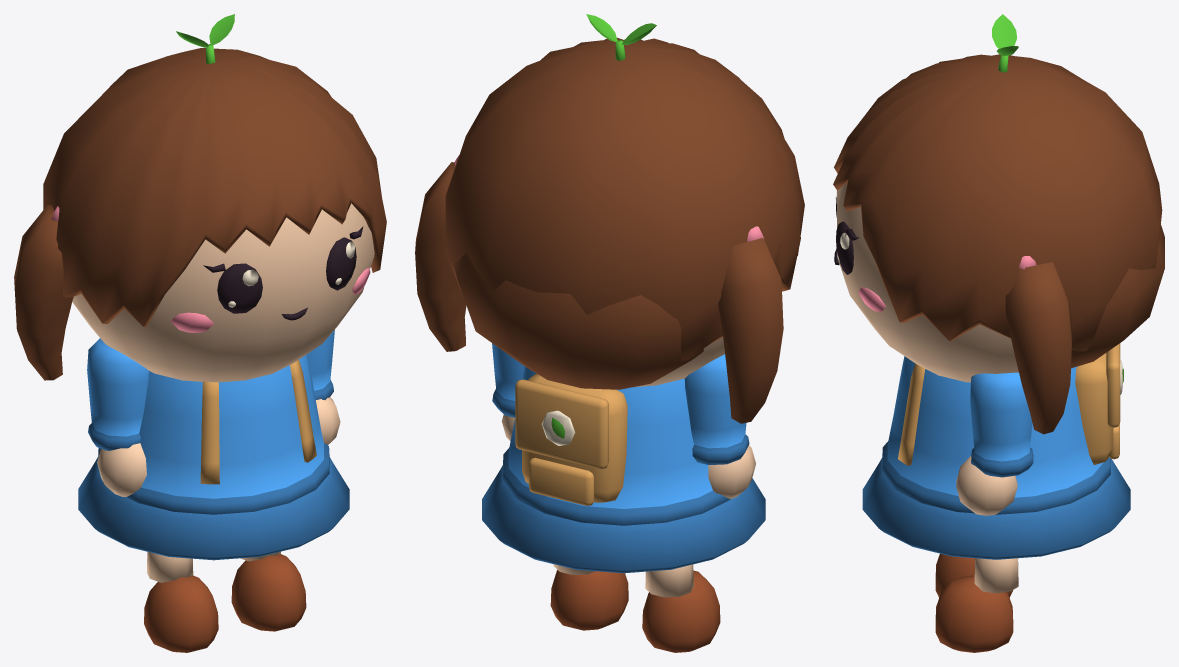
Rendered from hero-girl.glb.
The picture shows the model from 3 angles, left to right: view 1: azimuth 30°, elevation 25°; view 2: azimuth 150°, elevation 25°; view 3: azimuth 270°, elevation 25°; orthographic projection. The views are drawn at different scales.
Parts seen in each view (by area): view 1: head, body, arm-left, leg-left, leg-right, arm-right, head-leaf; view 2: head, body, arm-left, leg-left, leg-right, arm-right, head-leaf; view 3: head, body, arm-right, leg-right, leg-left, head-leaf.
Boxes of the visible parts, <box> form: head: <box>14,48,386,382</box>; body: <box>78,354,349,560</box>; arm-left: <box>87,338,148,496</box>; leg-left: <box>144,552,218,652</box>; leg-right: <box>231,551,306,631</box>; arm-right: <box>307,330,340,444</box>; head-leaf: <box>176,14,234,63</box>; head: <box>415,37,804,423</box>; body: <box>482,366,765,573</box>; arm-left: <box>684,354,755,498</box>; leg-left: <box>642,564,720,652</box>; leg-right: <box>550,564,628,630</box>; arm-right: <box>492,343,524,440</box>; head-leaf: <box>586,14,656,60</box>; head: <box>833,54,1164,434</box>; body: <box>862,343,1130,559</box>; arm-right: <box>956,372,1033,515</box>; leg-right: <box>935,558,1018,652</box>; leg-left: <box>935,553,1012,597</box>; head-leaf: <box>992,14,1018,72</box>.
Size of the model in its own units: 1.44 by 2.35 by 1.19.
